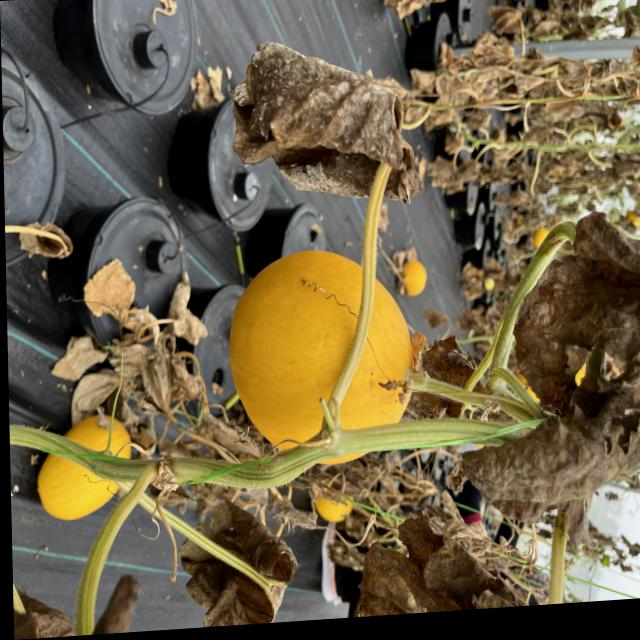bacterial wilt: (456, 208, 640, 516), (240, 27, 419, 207), (350, 503, 537, 617)
